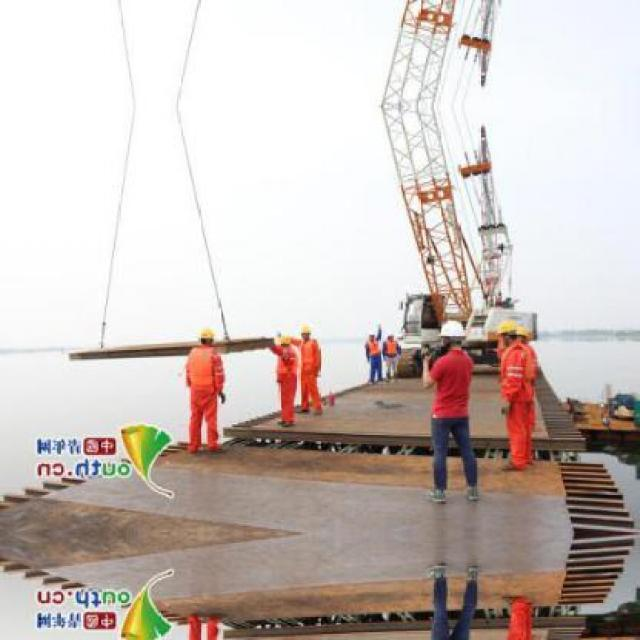Reflective-Jacket: (494, 342, 543, 415), (183, 346, 229, 406), (271, 344, 300, 379), (299, 336, 323, 376)
Safety-Helmet: (492, 316, 530, 341), (436, 318, 470, 344), (192, 321, 222, 345), (297, 319, 317, 338)
